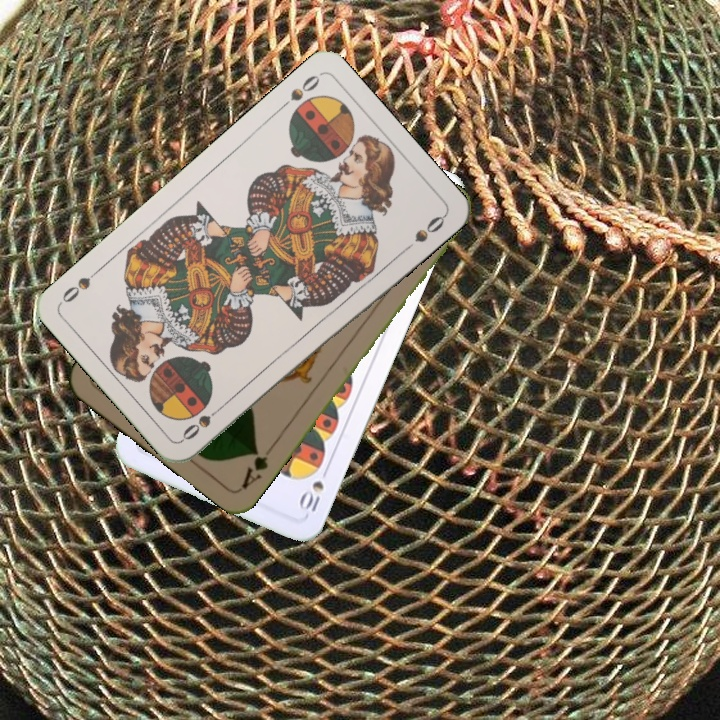GA: (237, 445, 271, 492)
S10: (295, 462, 332, 515)
SO: (178, 400, 227, 443), (274, 70, 323, 113)
